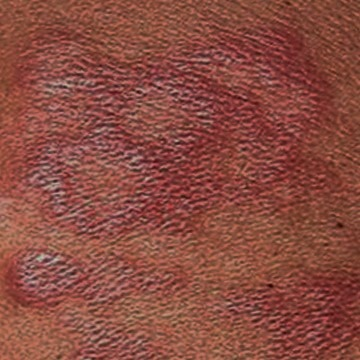Leprosy: (16, 24, 359, 236), (215, 270, 359, 359), (3, 247, 188, 306), (54, 319, 174, 359)
